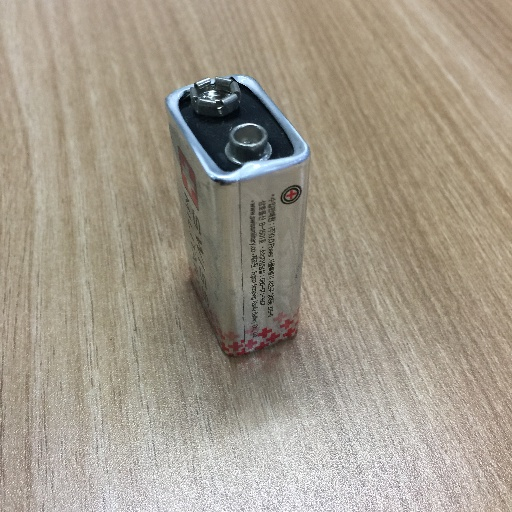Battery_3: (157, 51, 320, 377)
